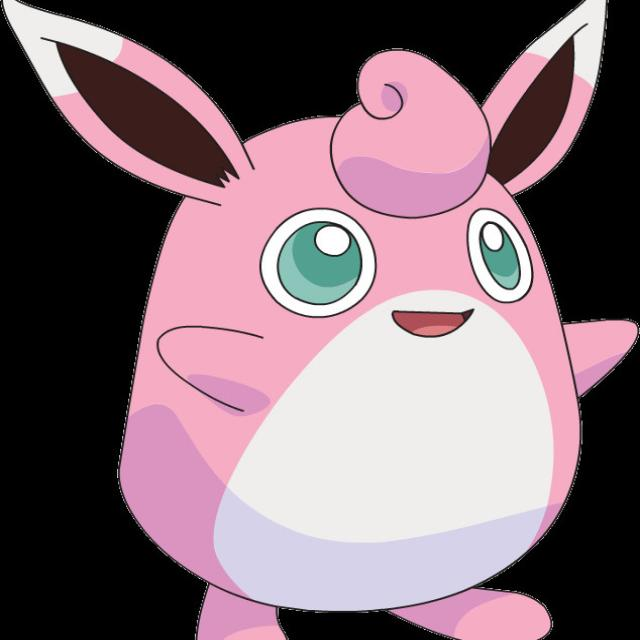Wigglytuff: (119, 41, 590, 640)
